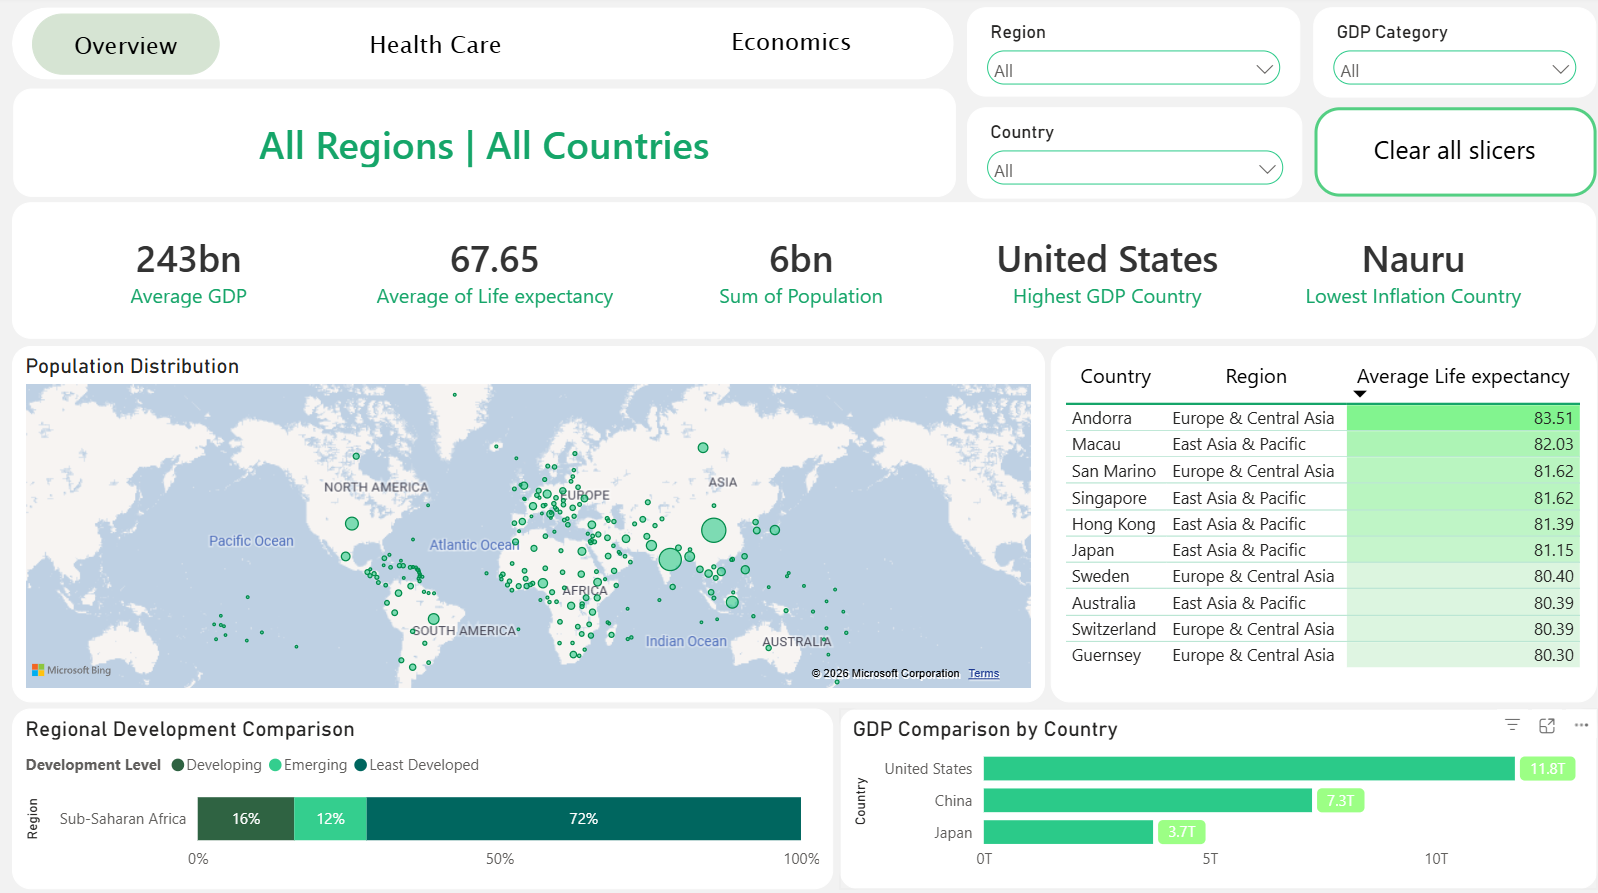

The page's visual inventory and layout, read from the dashboard file:
{"tool":"powerbi","page":{"name":"Executive Overview","canvas":[1280,720],"ordinal":0},"visuals":[{"type":"cardVisual","fields":{"Data":["_Measures.Average GDP","Avg(Country Data Comparison.Life expectancy)","Sum(Country Data Comparison.Population)","_Measures.Highest GDP Country Name","_Measures.Lowest Inflation Country Name"]},"box":[12.3,164.7,1262.4,108.4],"z":0},{"type":"cardVisual","fields":{"Data":["_Measures.Executive Title"]},"box":[12.5,73.7,751,86],"z":1000},{"type":"clusteredBarChart","title":"GDP Comparison by Country","fields":{"Category":["Country Data Comparison.Country"],"Y":["_Measures.Average GDP"]},"box":[671,568.1,604,144.1],"z":2000},{"type":"hundredPercentStackedBarChart","title":"Regional  Development Comparison","fields":{"Category":["Country Data Comparison.Region"],"Series":["Country Data Comparison.Development Level"],"Y":["Count(Country Data Comparison.Country)"]},"box":[12.3,568.1,654.5,144.1],"z":3000},{"type":"tableEx","fields":{"Values":["Country Data Comparison.Country","Country Data Comparison.Region","_Measures.Average Life expectancy"]},"box":[839.8,279,435,284],"z":4000},{"type":"slicer","fields":{"Values":["Country Data Comparison.GDP Category"]},"box":[1048.5,8.5,225.4,72.3],"z":5000},{"type":"slicer","fields":{"Values":["Country Data Comparison.Country"]},"box":[772.8,88.5,267.6,72.7],"z":6000},{"type":"slicer","fields":{"Values":["Country Data Comparison.Region"]},"box":[772.8,8.5,265.5,71.5],"z":7000},{"type":"group","id":"g1","title":"Group 1","box":[11.9,8.5,750.6,57.9],"z":8000},{"type":"shape","box":[11.9,8.5,750.6,57.9],"z":9000,"group":"g1"},{"type":"map","title":"Population Distribution","fields":{"Category":["Country Data Comparison.Country"],"Size":["Sum(Country Data Comparison.Population)"]},"box":[12.3,278.6,823,284],"z":9000},{"type":"actionButton","box":[236.4,15,227,48.2],"z":10000,"group":"g1"},{"type":"actionButton","box":[1050.2,88.5,224.7,71.5],"z":10000},{"type":"actionButton","box":[27.4,13.3,149.8,48.9],"z":11000,"group":"g1"},{"type":"actionButton","box":[515.9,12.2,234.5,47.2],"z":12000,"group":"g1"}]}

Visuals, with their boxes in screenshot pixels (x1, y1, x2, y2), scaled from the page's 1280x720 canvas onto the 1598x893 screenshot:
cardVisual - _Measures.Average GDP x Avg(Country Data Comparison.Life expectancy): Rect(15, 204, 1591, 339)
cardVisual - _Measures.Executive Title: Rect(16, 91, 953, 198)
"GDP Comparison by Country" clusteredBarChart: Rect(838, 705, 1592, 883)
"Regional  Development Comparison" hundredPercentStackedBarChart: Rect(15, 705, 832, 883)
tableEx - Country Data Comparison.Country x Country Data Comparison.Region: Rect(1048, 346, 1592, 698)
slicer - Country Data Comparison.GDP Category: Rect(1309, 11, 1590, 100)
slicer - Country Data Comparison.Country: Rect(965, 110, 1299, 200)
slicer - Country Data Comparison.Region: Rect(965, 11, 1296, 99)
"Group 1" group: Rect(15, 11, 952, 82)
shape: Rect(15, 11, 952, 82)
"Population Distribution" map: Rect(15, 346, 1043, 698)
actionButton: Rect(295, 19, 579, 78)
actionButton: Rect(1311, 110, 1592, 198)
actionButton: Rect(34, 16, 221, 77)
actionButton: Rect(644, 15, 937, 74)
